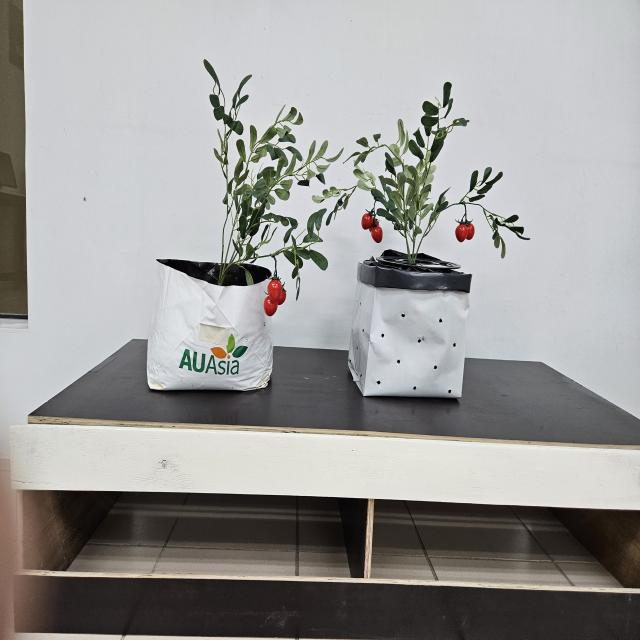Soilbag: (347, 252, 472, 401), (147, 259, 273, 392)
Tomato: (263, 276, 288, 322), (360, 208, 386, 245), (454, 214, 477, 245)
plant: (312, 83, 529, 259), (203, 60, 343, 318)
